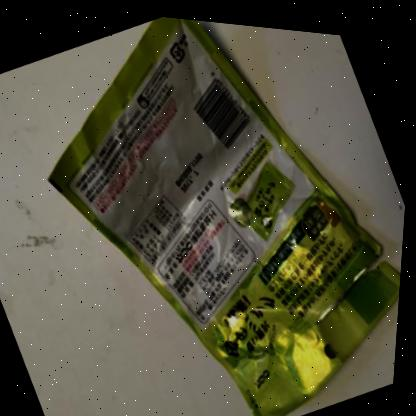Plastic: (52, 13, 404, 416)
